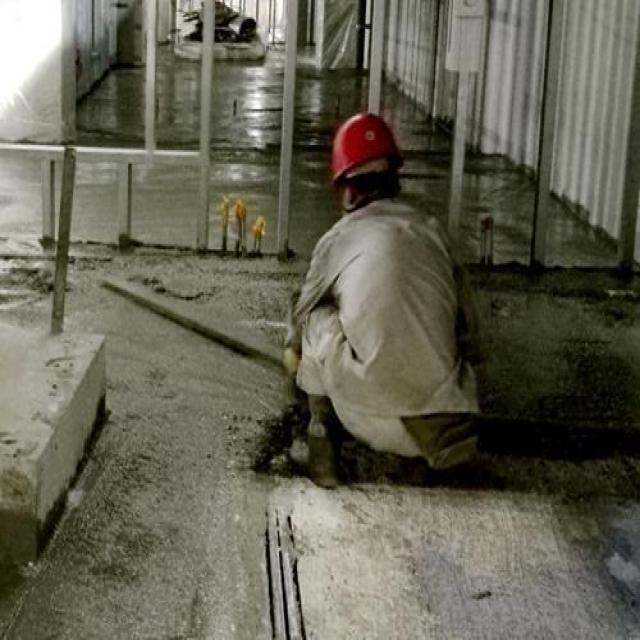helmet: (325, 99, 411, 195)
